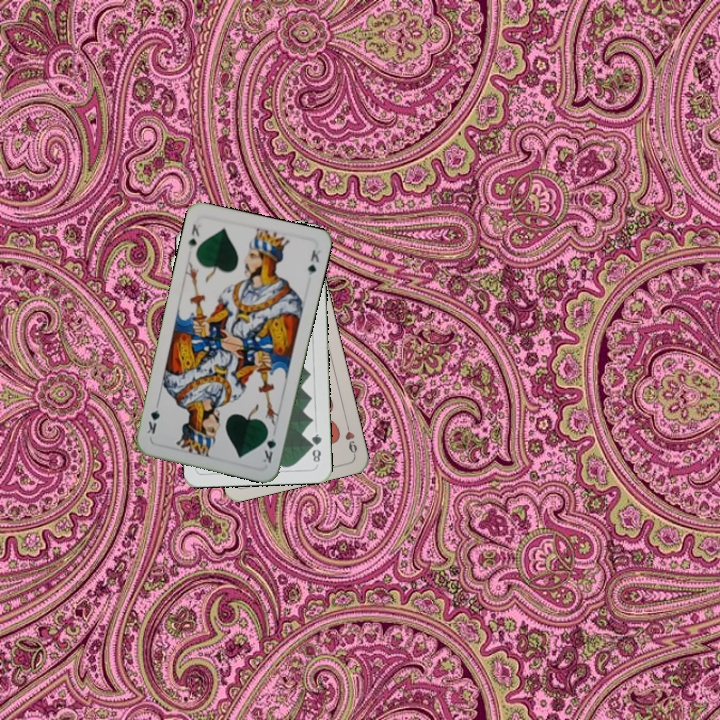G8: (307, 430, 324, 467)
GK: (258, 426, 279, 466), (184, 219, 202, 252)
H9: (341, 418, 360, 458)
